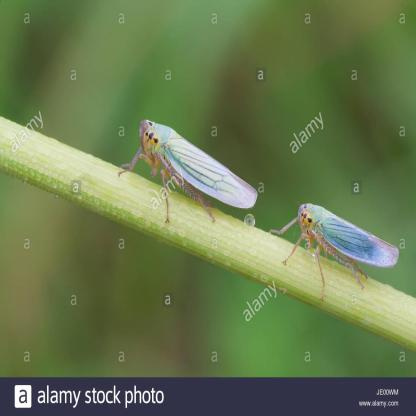Green-Leafhopper: (124, 115, 258, 226), (266, 197, 398, 301)
